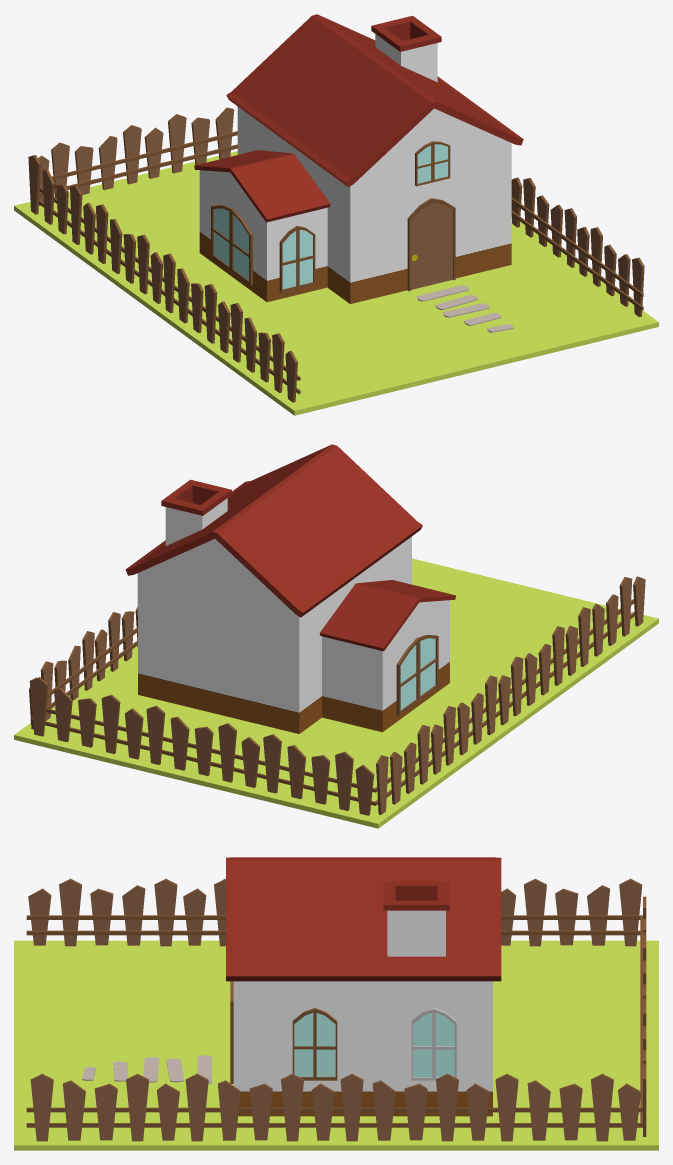
Rendered from House_01.fbx.
3 views of the same model, one above another, from view 1: azimuth 30°, elevation 25°; view 2: azimuth 150°, elevation 25°; view 3: azimuth 270°, elevation 25° (orthographic). The views are drawn at different scales.
Visible parts, largest first — view 1: House_01_Merged1; view 2: House_01_Merged1; view 3: House_01_Merged1.
Part boxes in pixels (x1,y1,x2,y2): House_01_Merged1: [14, 14, 658, 415]; House_01_Merged1: [14, 444, 658, 828]; House_01_Merged1: [14, 857, 658, 1150].
Bounding box in the file's own units: 33.75 × 16.77 × 45.
